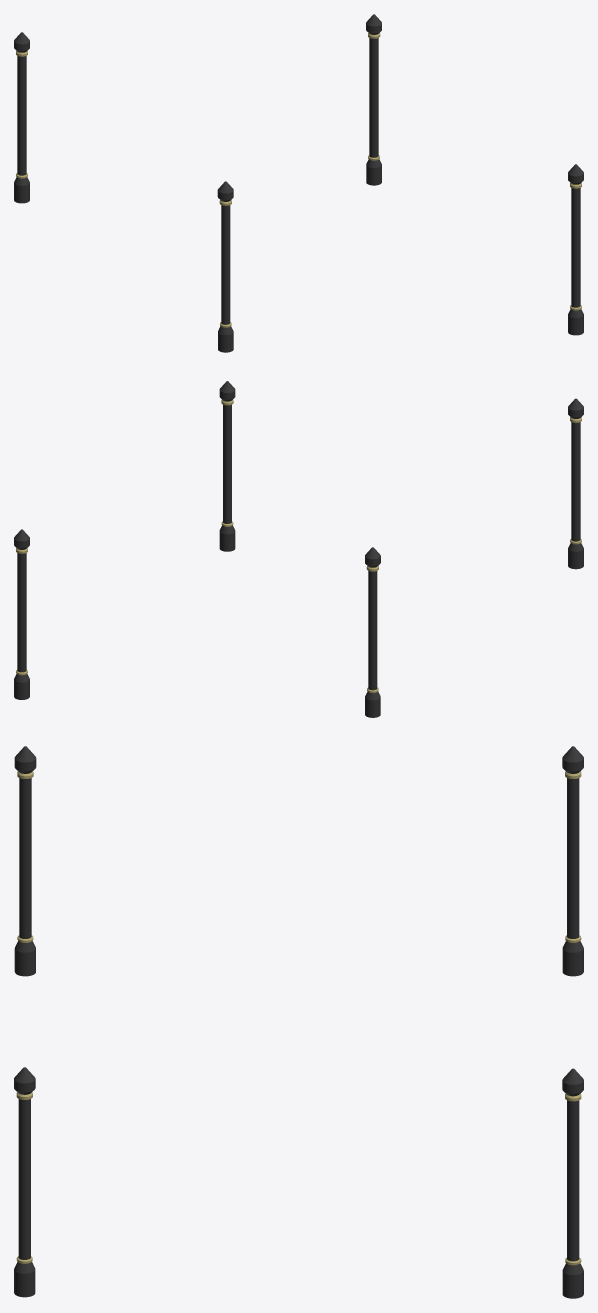
Rendered from wire-poles-slope-half.dae.
3 renders of one model, top to bottom at view 1: azimuth 30°, elevation 25°; view 2: azimuth 150°, elevation 25°; view 3: azimuth 270°, elevation 25°, orthographic. The views are drawn at different scales.
Visible parts, largest first — view 1: Cylinder_002, Cylinder_004, Cylinder, Cylinder_003; view 2: Cylinder, Cylinder_004, Cylinder_002, Cylinder_003; view 3: Cylinder_002, Cylinder, Cylinder_004, Cylinder_003.
Boxes of the visible parts, box(x1,y1,x2,y2) form: Cylinder_002: box(217, 181, 233, 352); Cylinder_004: box(366, 14, 381, 185); Cylinder: box(14, 32, 29, 203); Cylinder_003: box(568, 164, 583, 335); Cylinder: box(365, 547, 380, 717); Cylinder_004: box(14, 529, 29, 699); Cylinder_002: box(568, 398, 583, 569); Cylinder_003: box(219, 381, 235, 551); Cylinder_002: box(14, 746, 36, 976); Cylinder: box(562, 746, 583, 976); Cylinder_004: box(562, 1068, 583, 1298); Cylinder_003: box(14, 1067, 35, 1297).
Bounding box in the file's own units: 8.28 × 8.31 × 5.09.
